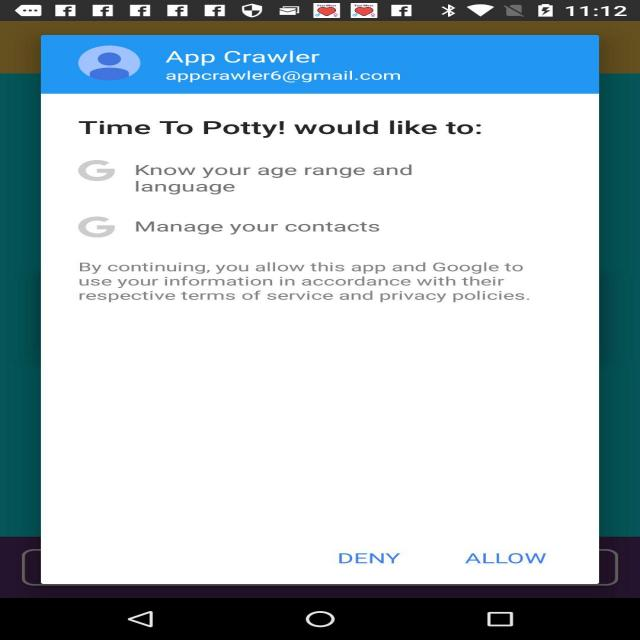button: (136, 164, 422, 234), (298, 524, 587, 582)
icon: (53, 38, 159, 96), (64, 151, 127, 247)
image: (70, 43, 145, 87)
text: (68, 258, 542, 313), (129, 157, 439, 240), (74, 104, 497, 146), (165, 44, 418, 86), (320, 541, 568, 576)
